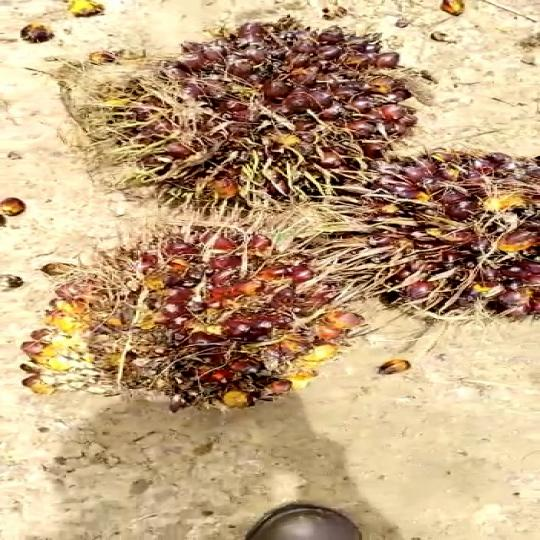masak: (14, 221, 375, 419), (87, 22, 429, 222), (343, 148, 540, 338)
